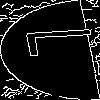L: (25, 25, 100, 58)
